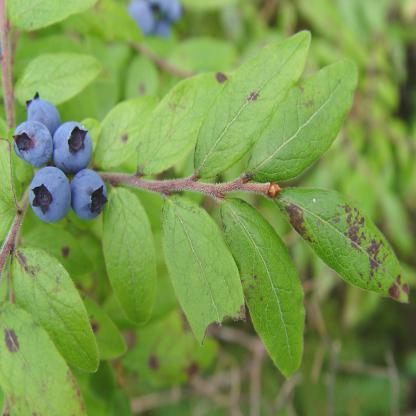Blueberry leaf: (187, 17, 318, 182), (218, 196, 312, 390), (275, 184, 413, 316), (246, 61, 376, 190), (14, 246, 112, 416), (154, 190, 246, 354), (134, 71, 234, 176), (98, 185, 157, 339)
